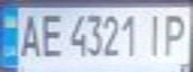1: (121, 10, 142, 58)
2: (103, 11, 124, 58)
3: (84, 10, 106, 58)
4: (63, 10, 87, 57)
A: (12, 10, 45, 60)
E: (36, 10, 66, 58)
I: (139, 10, 169, 57)
P: (157, 9, 193, 57)
